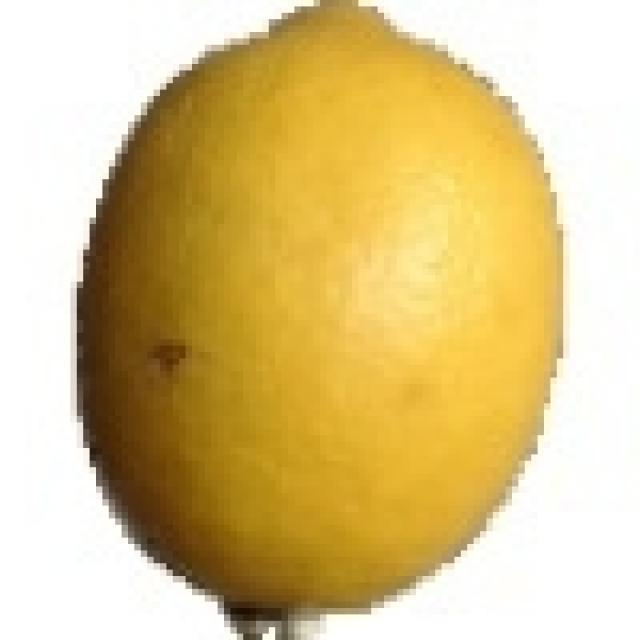lemon: (80, 0, 559, 640)
